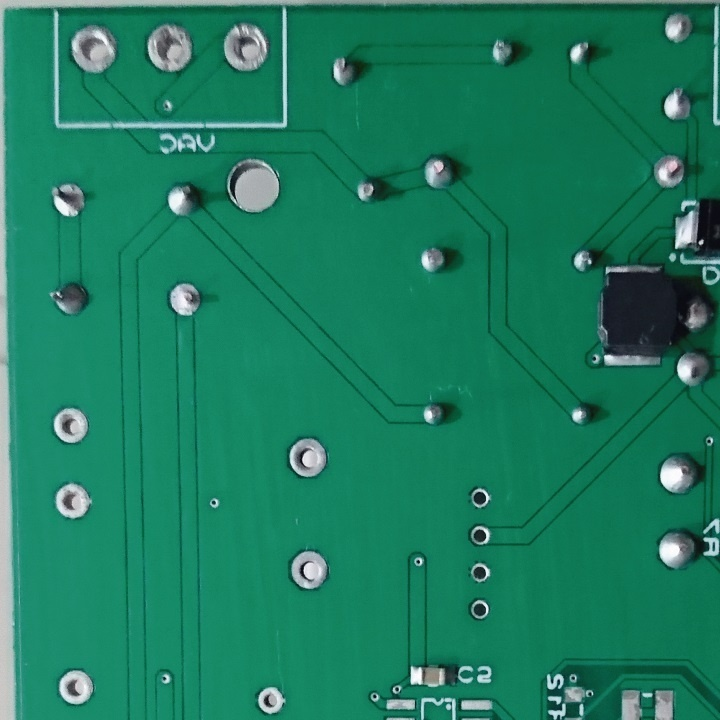F: (63, 20, 120, 78), (141, 19, 195, 75), (221, 18, 272, 73), (285, 548, 333, 596), (286, 433, 332, 481), (52, 665, 98, 707), (48, 405, 90, 449), (50, 481, 93, 523), (164, 280, 204, 325), (650, 149, 689, 193), (47, 180, 88, 220), (660, 5, 696, 49), (252, 684, 292, 716), (660, 86, 694, 123), (467, 523, 493, 549), (467, 596, 493, 622), (468, 486, 493, 512), (467, 560, 491, 583)
